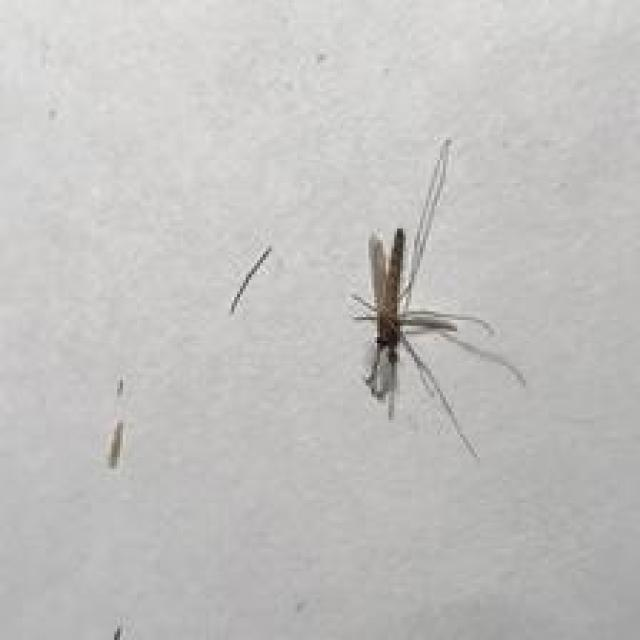Culex: (347, 137, 527, 460)
